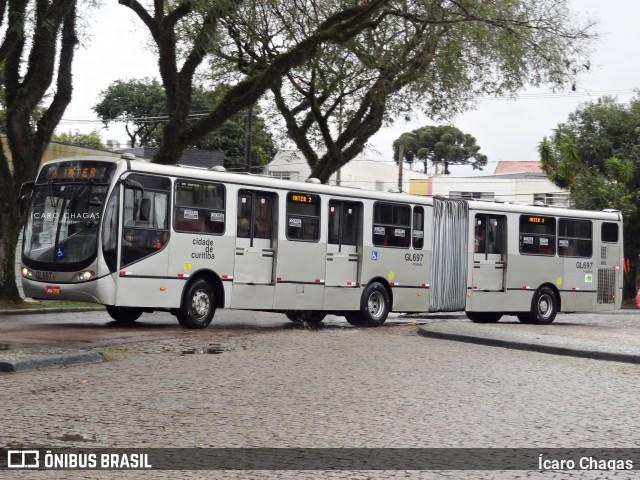INTER2: (60, 164, 109, 184)
